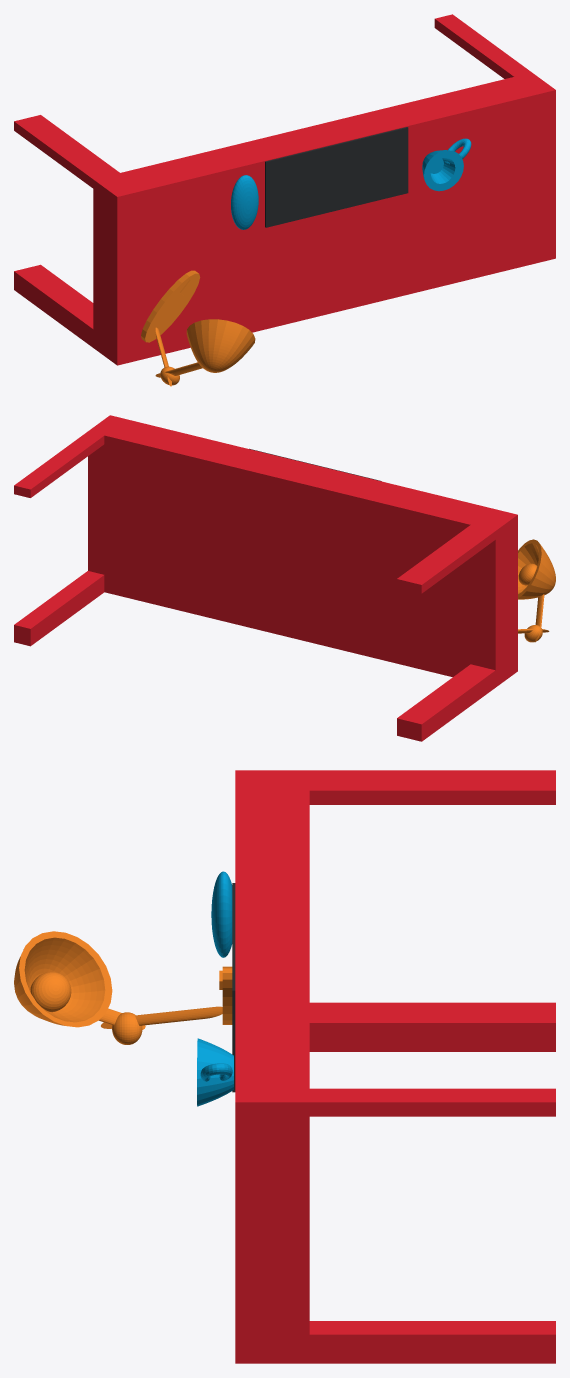
Rendered from tinker.obj.
3 views of the same model, one above another, from view 1: azimuth 30°, elevation 25°; view 2: azimuth 150°, elevation 25°; view 3: azimuth 270°, elevation 25° (orthographic). The views are drawn at different scales.
Visible parts, largest first — view 1: group_0_15277357, group_0_2829873, group_0_16089887, group_0_40919; view 2: group_0_15277357, group_0_16089887; view 3: group_0_15277357, group_0_16089887, group_0_40919, group_0_2829873.
Part boxes in pixels (x1,y1,x2,y2): group_0_15277357: (14, 14, 555, 365); group_0_2829873: (265, 127, 408, 227); group_0_16089887: (141, 270, 255, 386); group_0_40919: (231, 138, 471, 229); group_0_15277357: (14, 415, 517, 741); group_0_16089887: (518, 539, 555, 642); group_0_15277357: (235, 770, 555, 1363); group_0_16089887: (14, 931, 232, 1044); group_0_40919: (197, 871, 233, 1106); group_0_2829873: (232, 883, 235, 1092).
Size of the model in its own units: 49 by 18 by 33.82.
